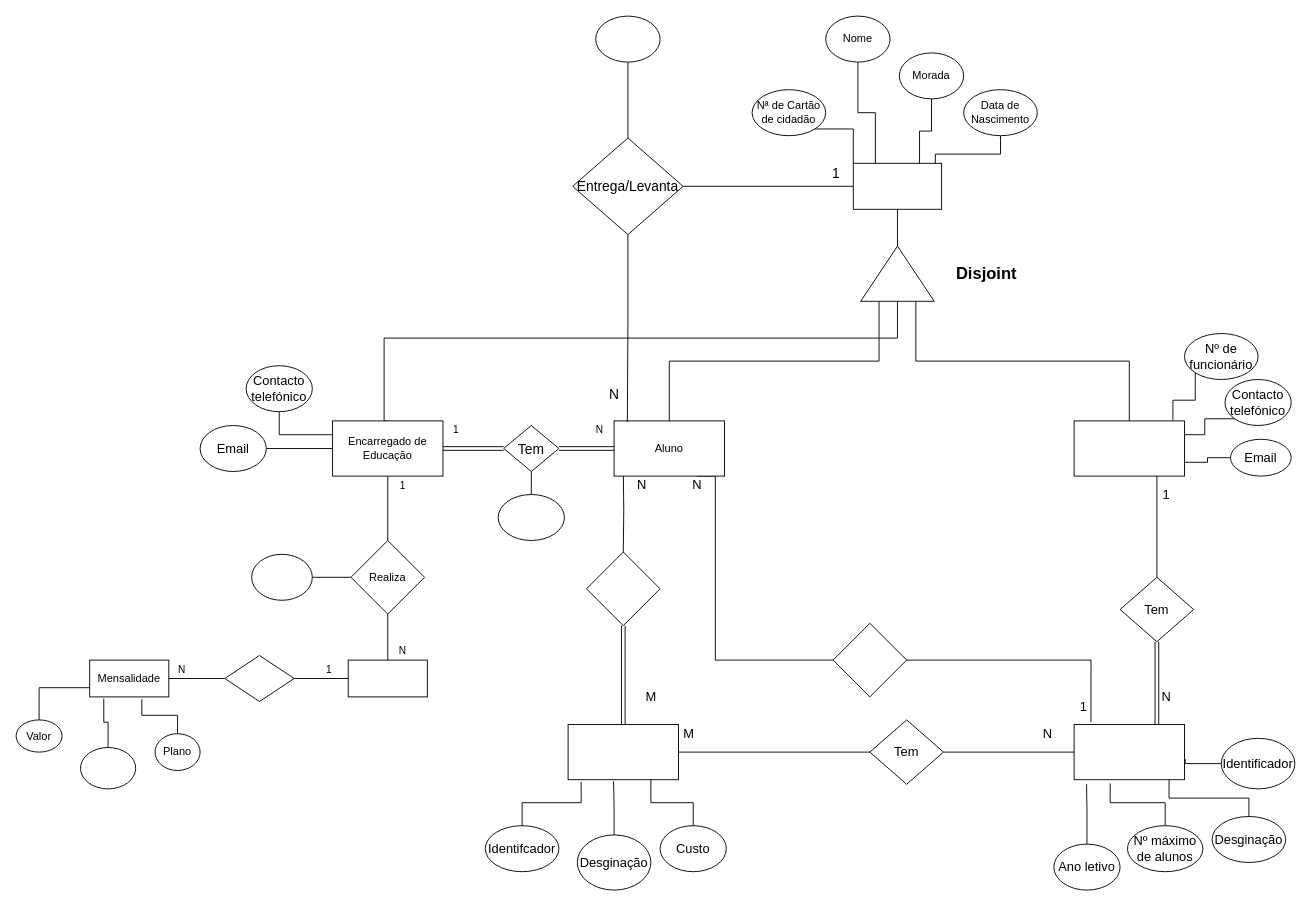
This 1311x906 diagram has some shape labels left out. The shapes that lost their labels are listed below. From the top down, each one's centre as x and y in pixels, then its label:
At (627,38): "Autorizado".
At (897,185): "Pessoa".
At (897,273): "IS-A".
At (1128,448): "Professor".
At (530,517): "Relação".
At (281,576): "Desconto familiar".
At (623,588): "Frequenta".
At (259,678): "Pertencem".
At (387,678): "Pagamento".
At (869,659): "Pertence".
At (108,768): "Atividades".
At (622,752): "Atividade".
At (1128,752): "Turma".
